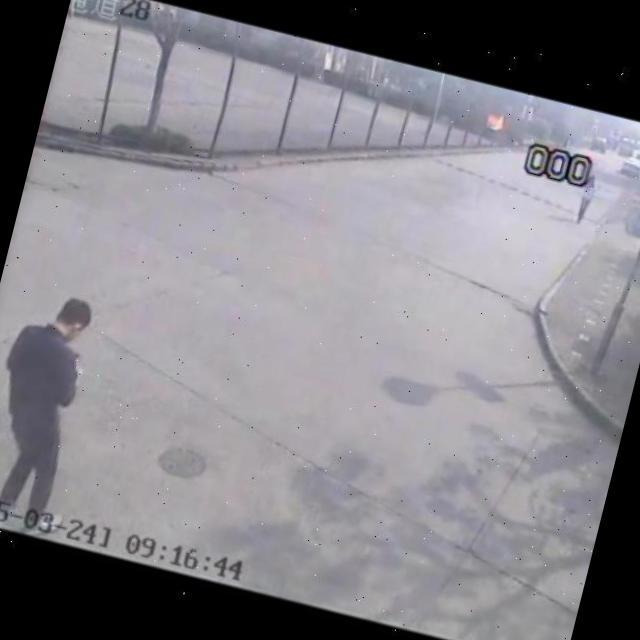person: (0, 261, 141, 550)
